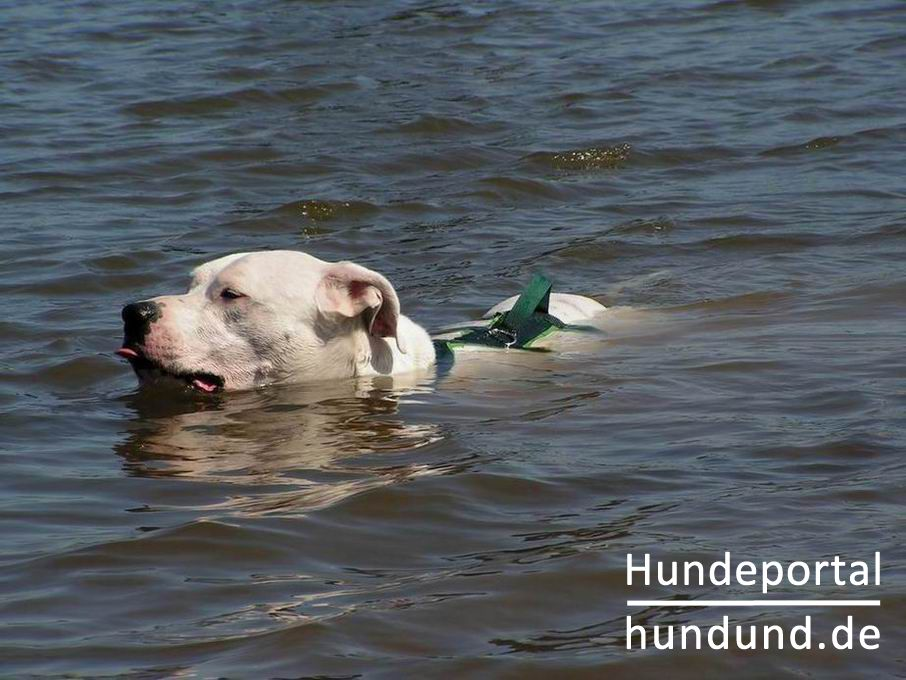dogo_argentino: (115, 248, 674, 395)
